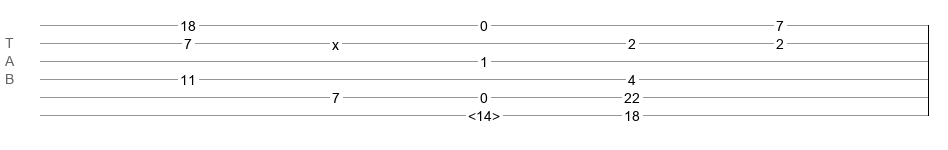0: (480, 90, 488, 100), (480, 18, 488, 28)
1: (480, 54, 488, 64)
11: (180, 72, 196, 82)
18: (180, 18, 196, 28), (624, 108, 640, 118)
2: (628, 36, 636, 46), (776, 36, 784, 46)
22: (624, 90, 640, 100)
4: (628, 72, 636, 82)
7: (184, 36, 192, 46), (332, 90, 340, 100), (776, 18, 784, 28)
harmonic: (468, 108, 500, 118)
x: (332, 37, 339, 45)
